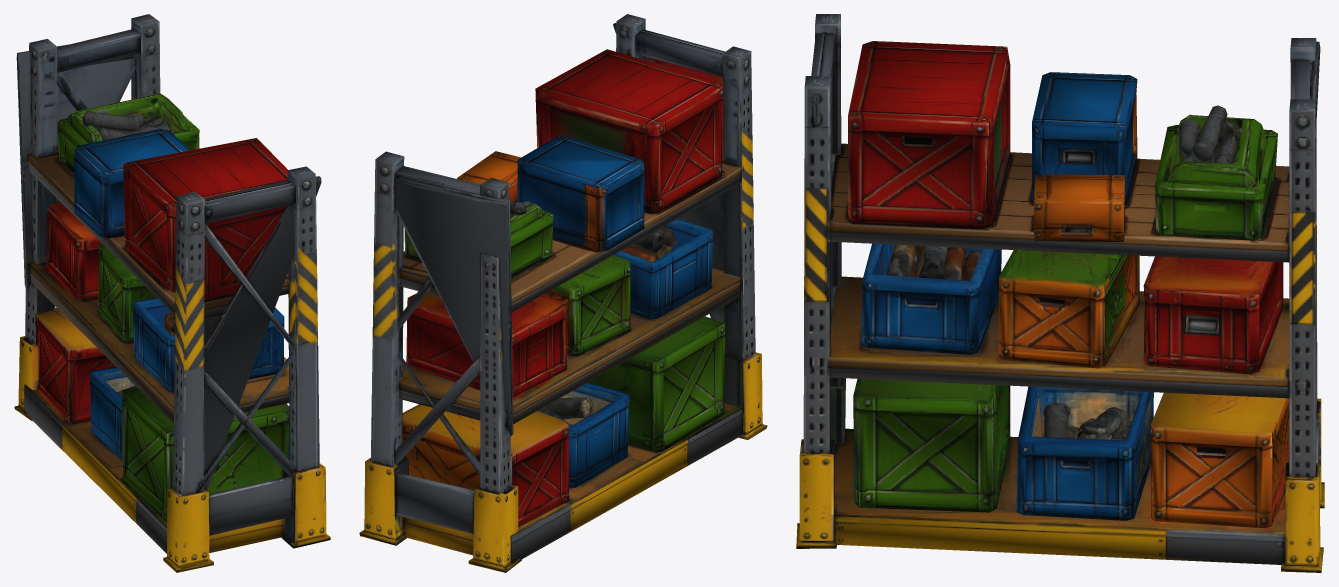
The model's file is shelf.glb.
3 views of the same model, side by side, from view 1: azimuth 30°, elevation 25°; view 2: azimuth 150°, elevation 25°; view 3: azimuth 270°, elevation 25° (orthographic). The views are drawn at different scales.
Parts seen in each view (by area): view 1: tripo_node_1b01e92c-66f2-4bbc-b06f-91002ea4d7fb; view 2: tripo_node_1b01e92c-66f2-4bbc-b06f-91002ea4d7fb; view 3: tripo_node_1b01e92c-66f2-4bbc-b06f-91002ea4d7fb.
Boxes of the visible parts, x1,y1,x2,y2 form: tripo_node_1b01e92c-66f2-4bbc-b06f-91002ea4d7fb: [14, 14, 330, 572]; tripo_node_1b01e92c-66f2-4bbc-b06f-91002ea4d7fb: [359, 14, 767, 572]; tripo_node_1b01e92c-66f2-4bbc-b06f-91002ea4d7fb: [796, 14, 1324, 572].
Bounding box in the file's own units: 0.9991 × 1.85 × 1.94.
Materials: 1 (1 with a texture image).
